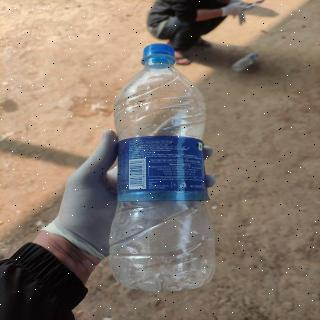Plastic-bottle: (107, 43, 220, 295)
